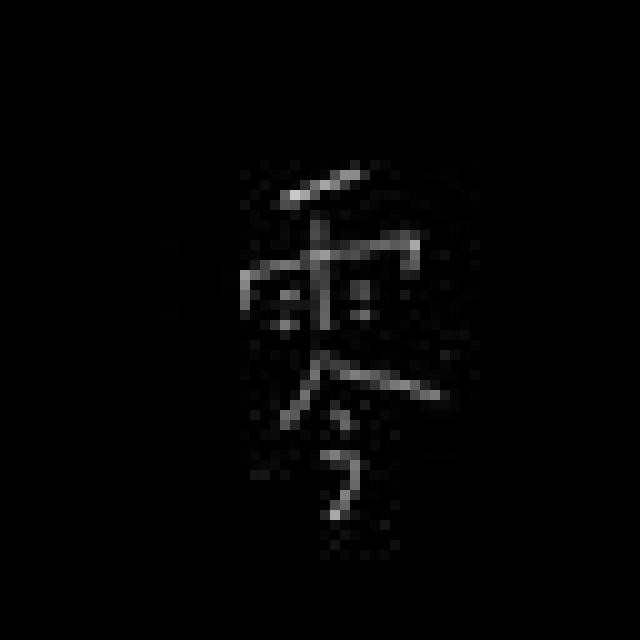0 -zero-: (220, 159, 454, 532)
